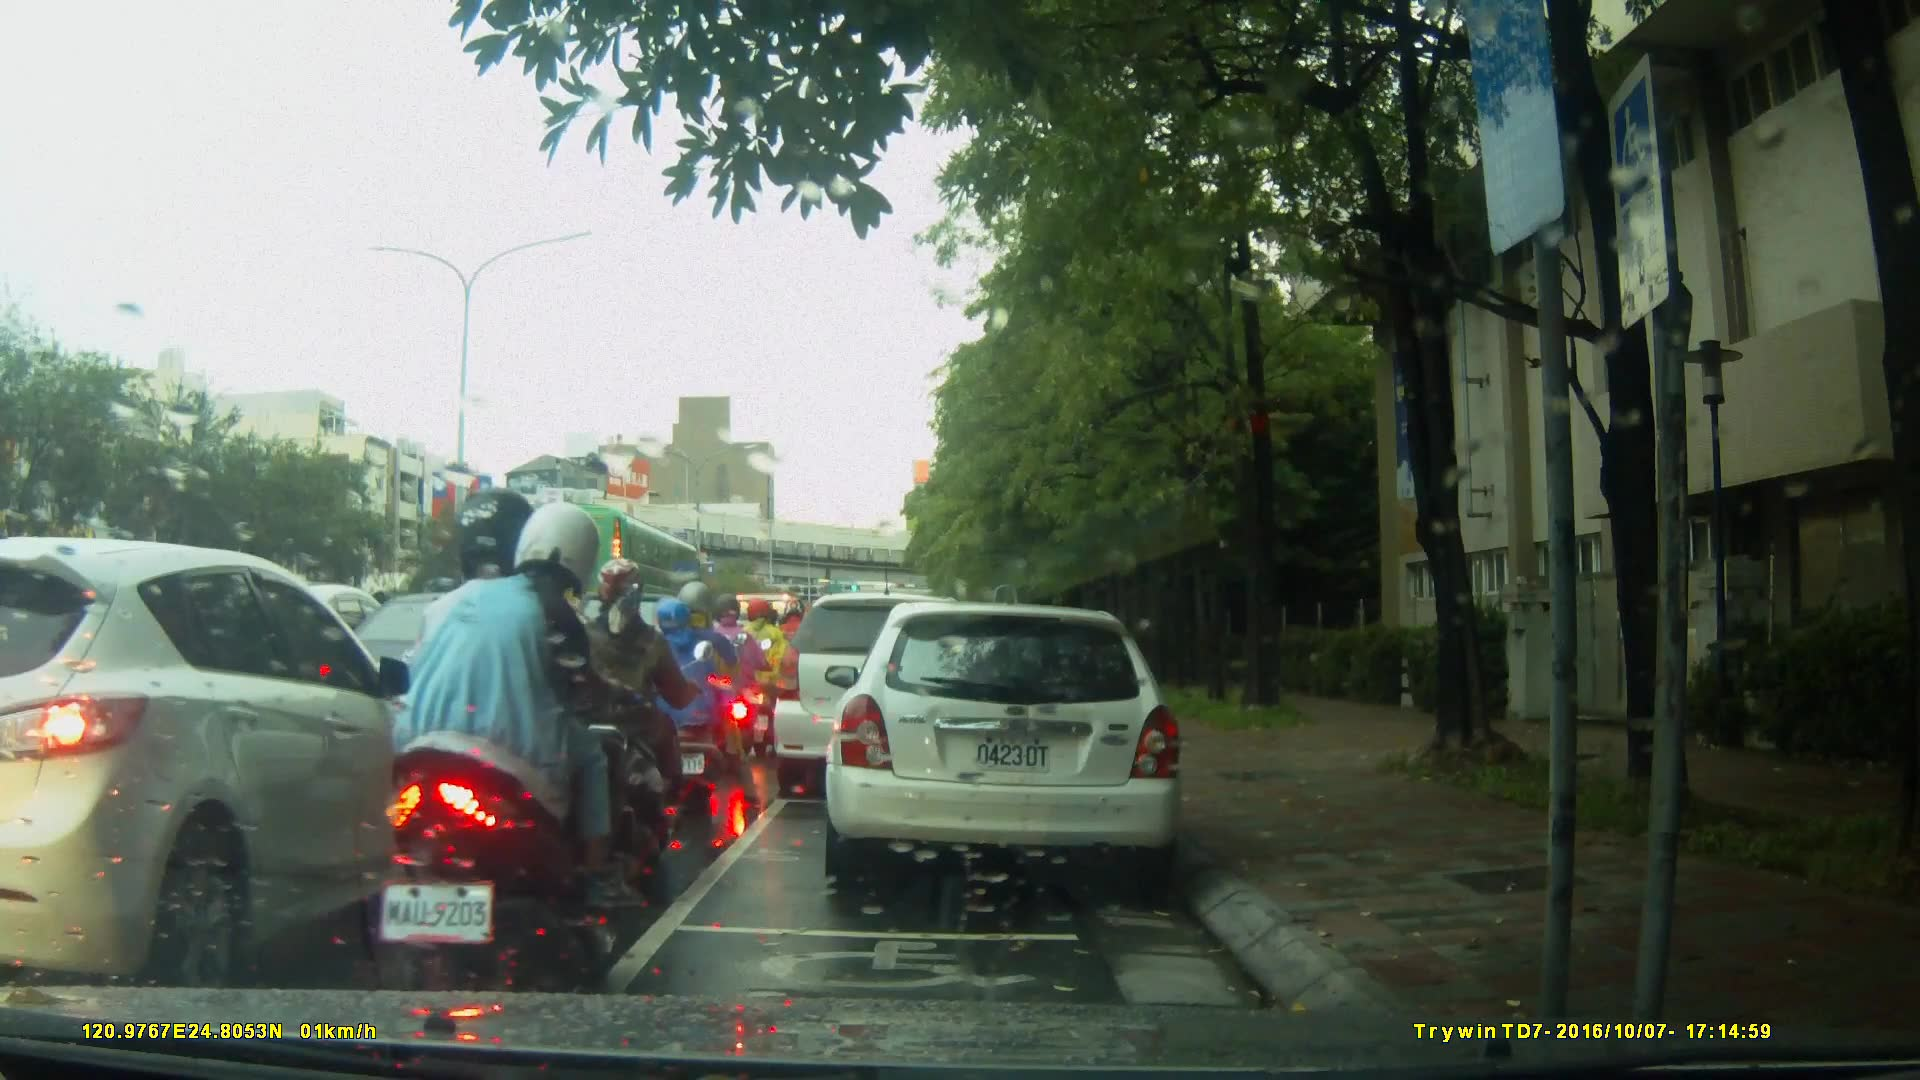rider: (384, 493, 643, 1005), (571, 558, 715, 880), (648, 585, 732, 809), (698, 598, 770, 764), (736, 598, 797, 751), (776, 596, 818, 716)
vehicle: (4, 535, 465, 988), (831, 592, 1196, 897), (312, 589, 629, 776), (771, 590, 999, 803), (501, 503, 709, 636)
